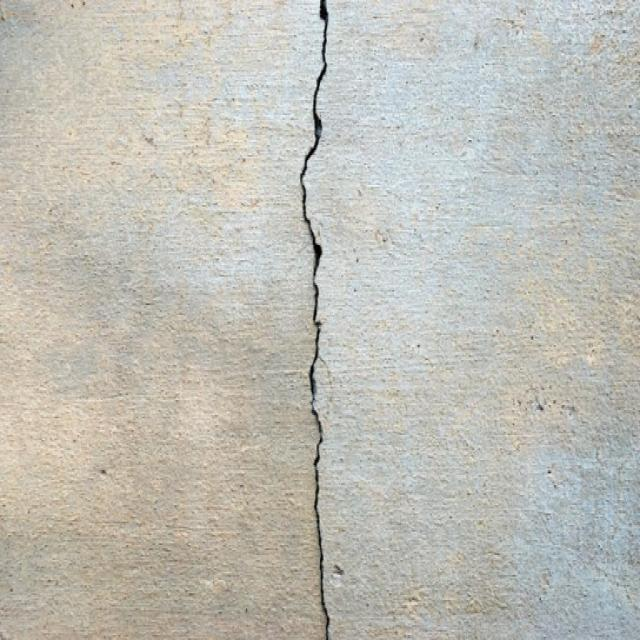crack: (298, 0, 334, 636)
